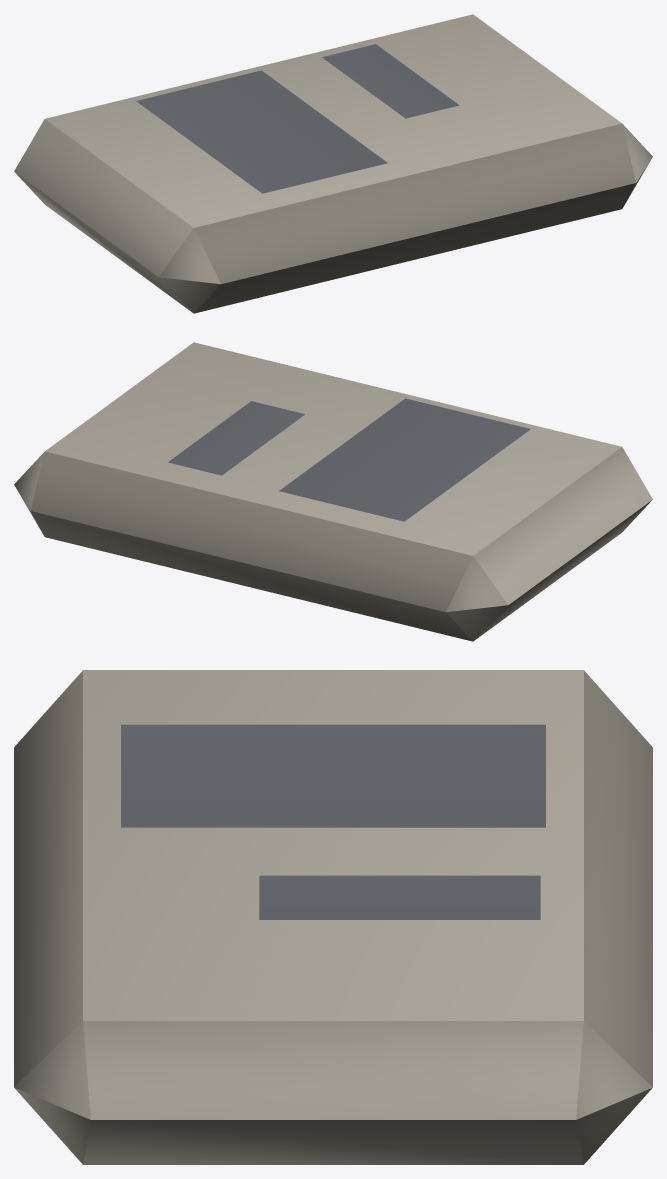
The model's file is Cement_Bag.fbx.
3 renders of one model, top to bottom at view 1: azimuth 30°, elevation 25°; view 2: azimuth 150°, elevation 25°; view 3: azimuth 270°, elevation 25°, orthographic. The views are drawn at different scales.
Parts seen in each view (by area): view 1: Cement_Bag; view 2: Cement_Bag; view 3: Cement_Bag.
Boxes of the visible parts, left/top/right/bottom form: Cement_Bag: left=14, top=14, right=652, bottom=313; Cement_Bag: left=14, top=342, right=652, bottom=641; Cement_Bag: left=14, top=670, right=652, bottom=1164.
Size of the model in its own units: 98.13 by 17.48 by 65.42.
